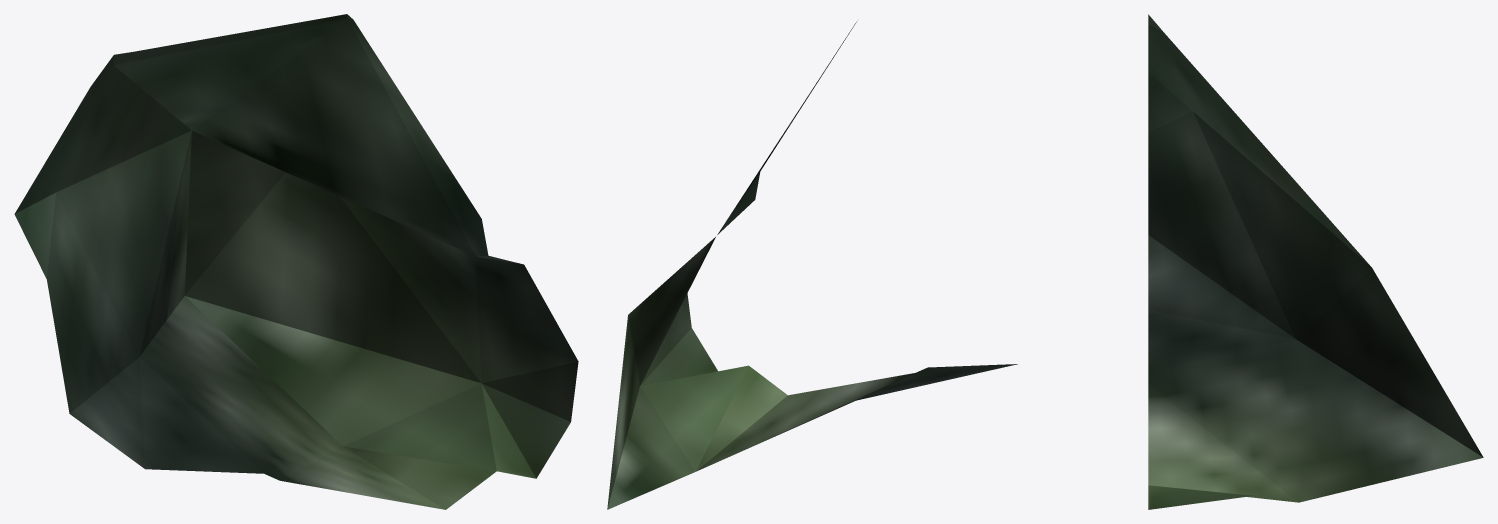
3 renders of one model, left to right at view 1: azimuth 30°, elevation 25°; view 2: azimuth 150°, elevation 25°; view 3: azimuth 270°, elevation 25°, orthographic. The views are drawn at different scales.
Size of the model in its own units: 2 by 1.88 by 1.52.
1 material, 1 textured.
